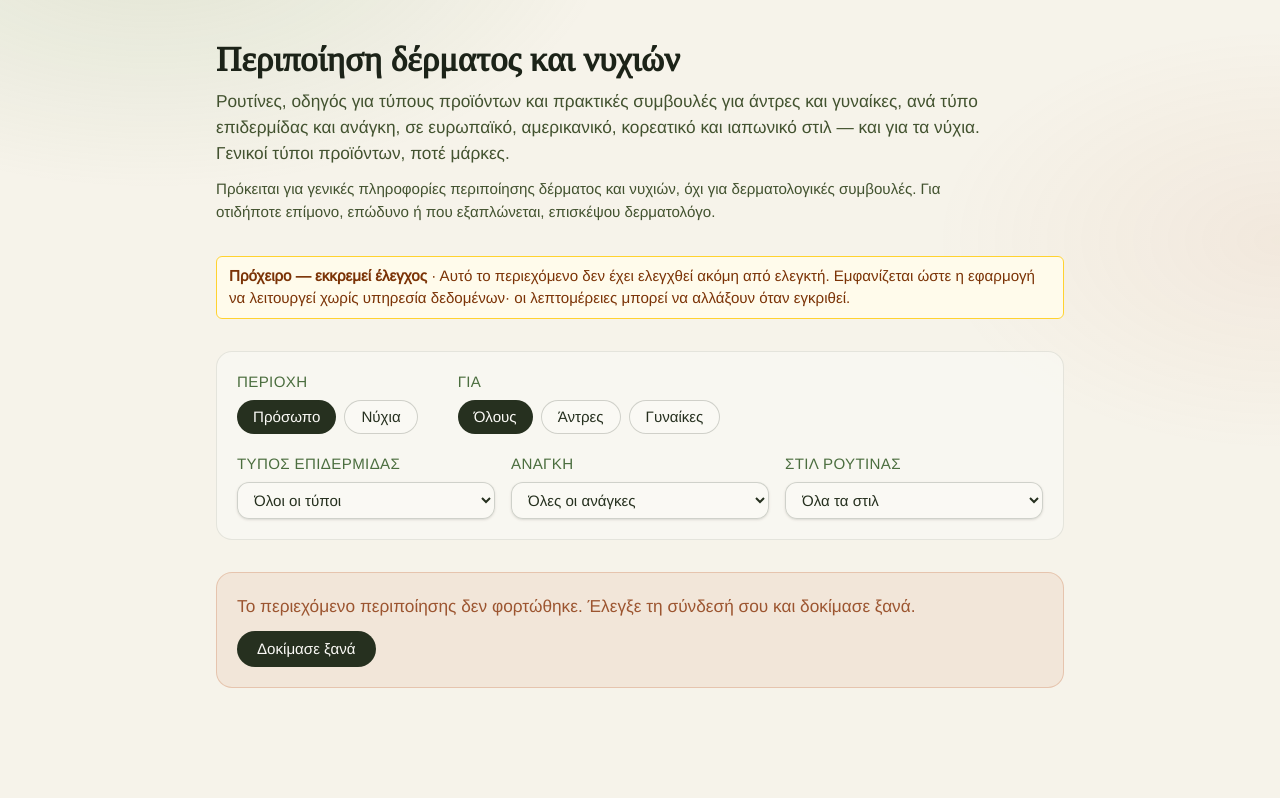
Test: <SkincarePage> states › reads the three lists in parallel and shows the error state if ANY fails; Retry asks again
Expected: the message shows "Το περιεχόμενο περιποίησης δεν φορτώθηκε. Έλεγξε τη σύνδεσή σου και δοκίμασε ξανά.", [237,596,916,616]
Click the button "Δοκίμασε ξανά": (306,649) [237,631,376,667]
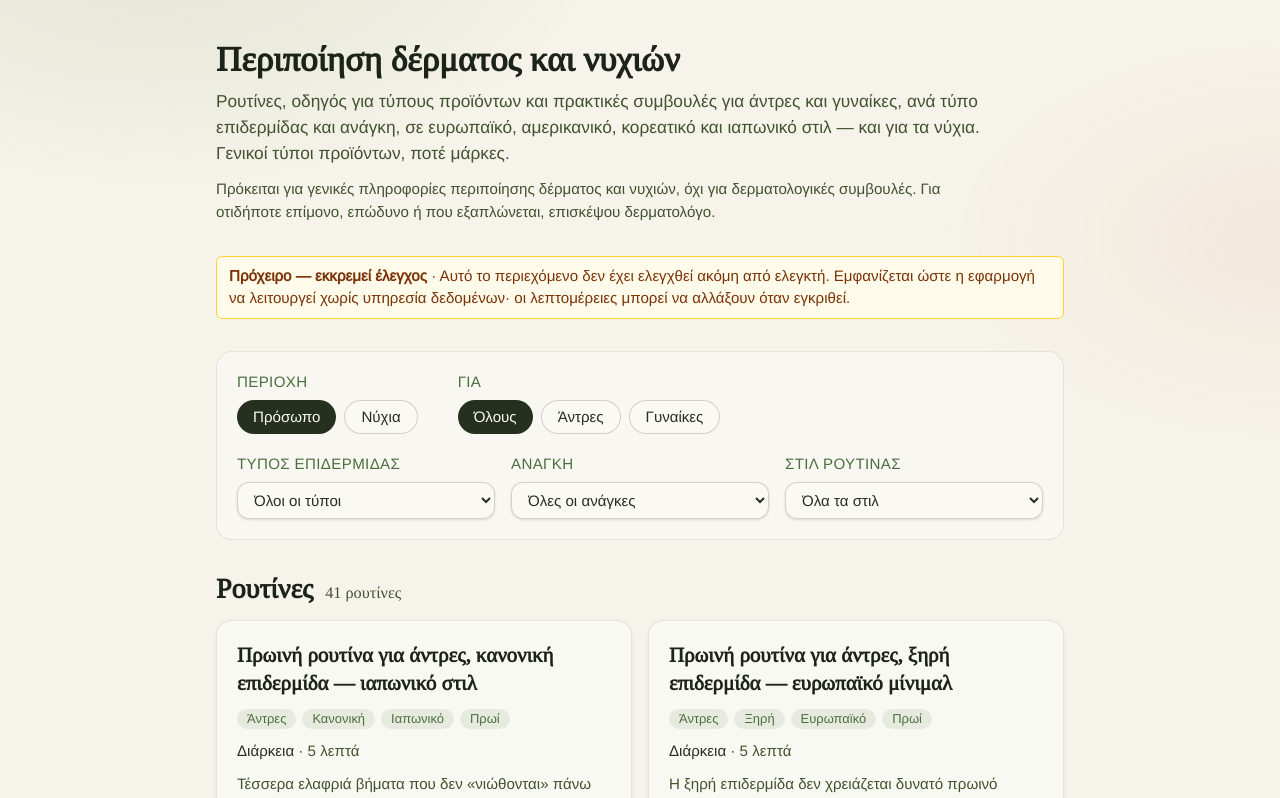
Result: the text "41 ρουτίνες" is shown at [325,582,401,602]
Result: the message is gone
